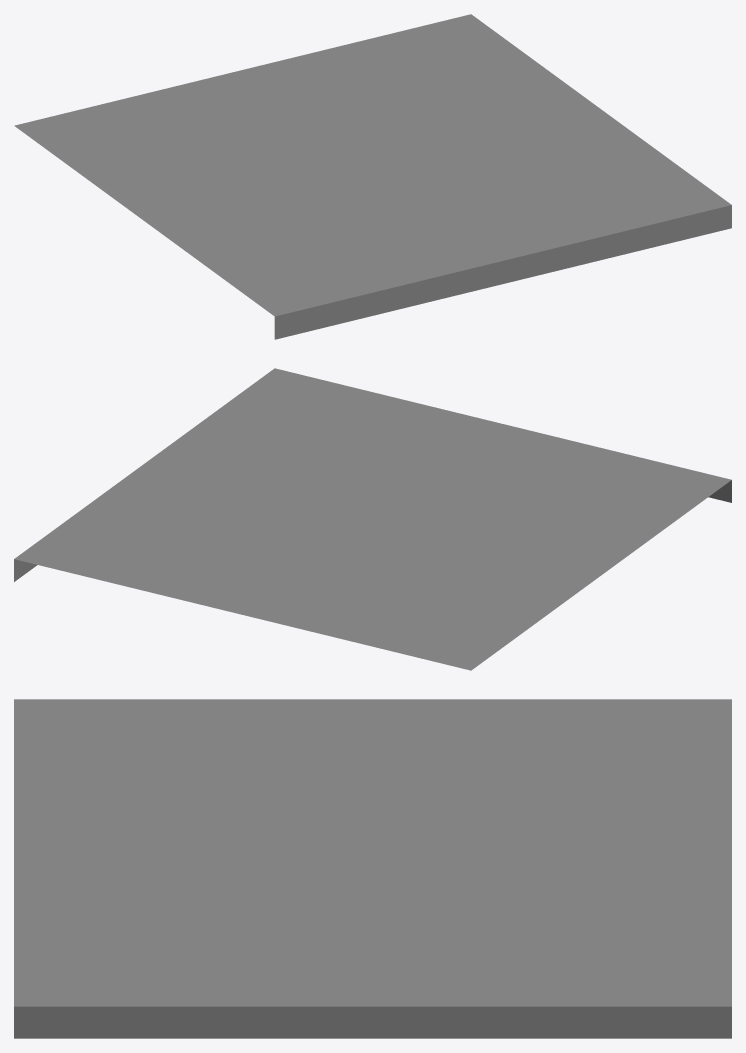
Rendered from case0.gltf.
3 views of the same model, one above another, from view 1: azimuth 30°, elevation 25°; view 2: azimuth 150°, elevation 25°; view 3: azimuth 270°, elevation 25° (orthographic). The views are drawn at different scales.
Parts seen in each view (by area): view 1: a0; view 2: a0; view 3: a0.
Part boxes in pixels (x1,y1,x2,y2): a0: [14, 14, 731, 339]; a0: [14, 368, 731, 670]; a0: [14, 699, 731, 1038].
Size of the model in its own units: 0.5143 by 0.025 by 0.5081.
Materials: 1 (1 with a texture image).
